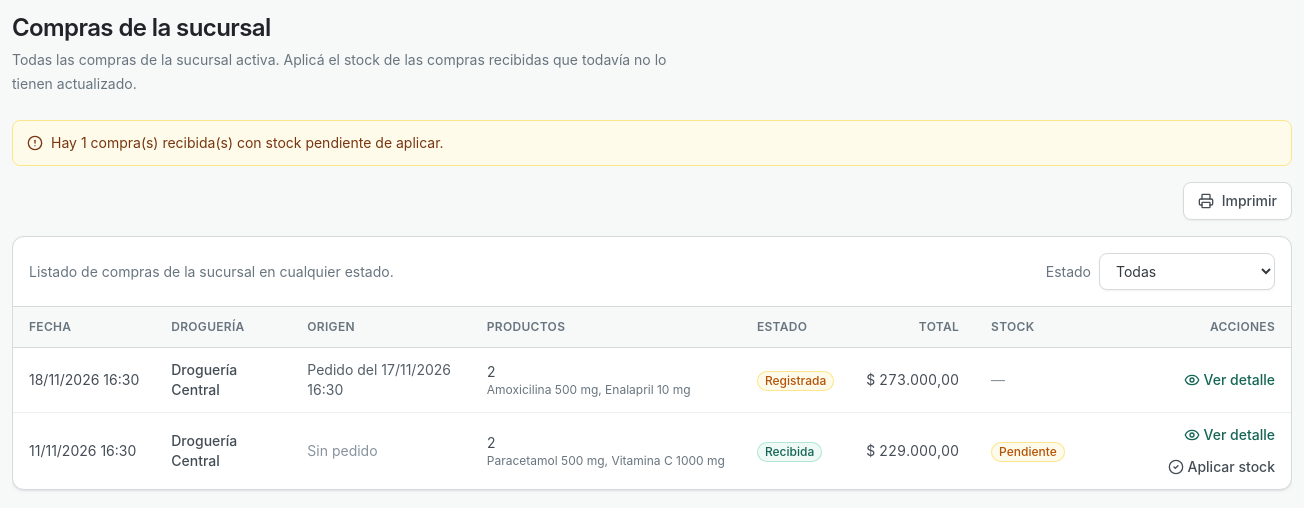
Scenario: lista compras de todos los estados y filtra por Recibida
expect the text "Pedido del 17/11/2026 16:30" is shown: met, box [307,361,451,398]
expect the text "Sin pedido" is shown: met, box [307,442,378,459]
Select "Recibidas" in the dropdown labelled "Estado" at point(1187, 272), box [1099,253,1275,290]
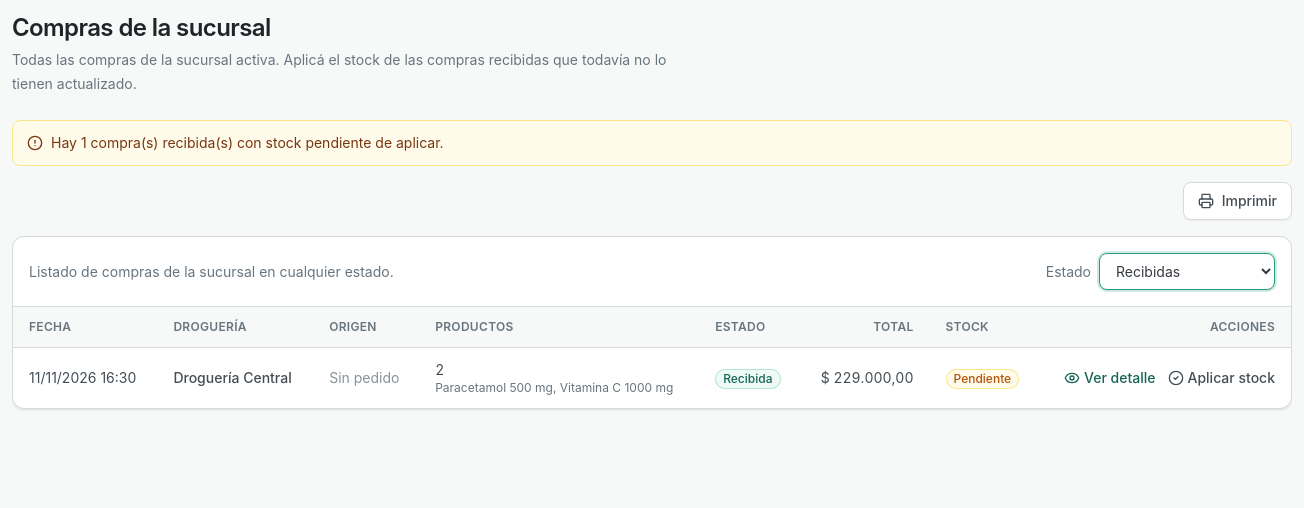
expect the text "Recibida" is shown: met, box [715,368,780,388]
expect the text "Pedido del" is gone: met
